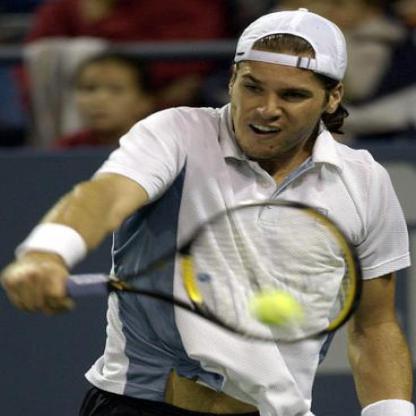face: (232, 17, 333, 163), (78, 59, 139, 131)
